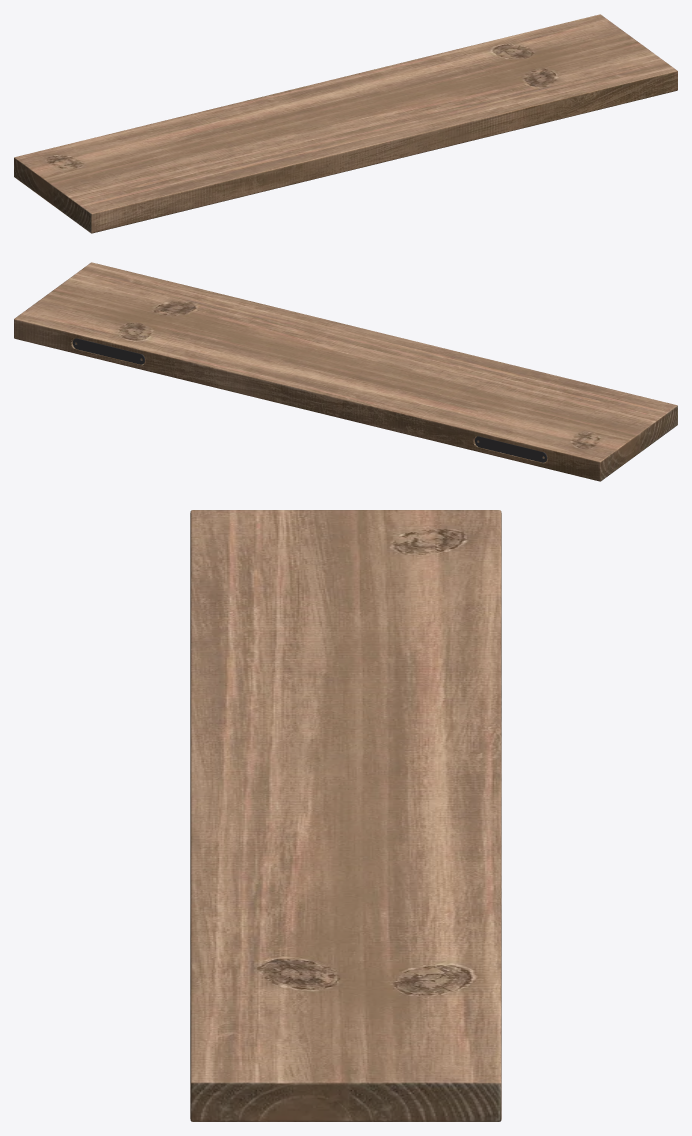
The model's file is abo-B088HFSQXT.glb.
The picture shows the model from 3 angles, top to bottom: view 1: azimuth 30°, elevation 25°; view 2: azimuth 150°, elevation 25°; view 3: azimuth 270°, elevation 25°; orthographic projection. The views are drawn at different scales.
Size of the model in its own units: 0.61 by 0.02 by 0.14.
1 material, 1 textured.
